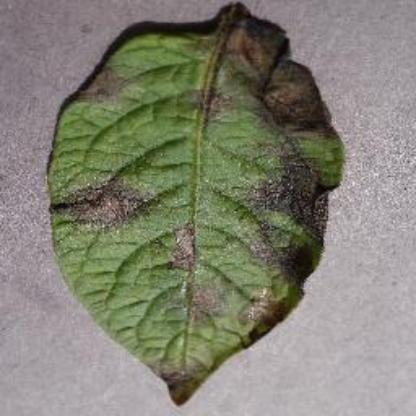Late-Blight: (44, 4, 350, 408)
